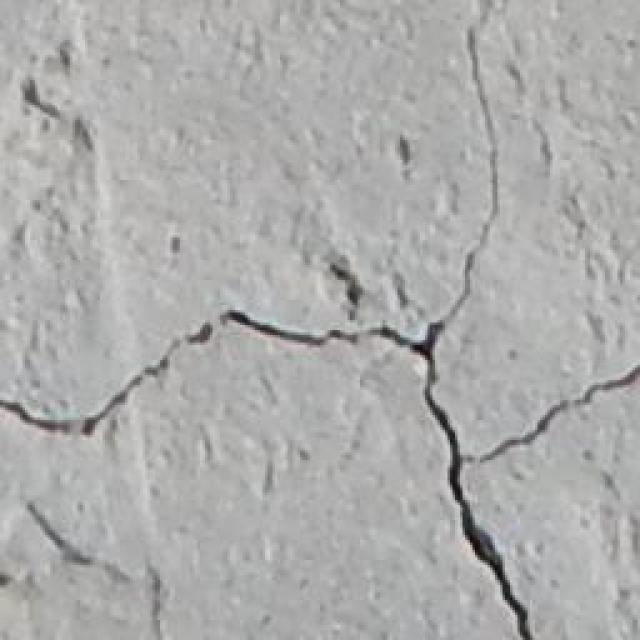concrete-crack: (2, 0, 637, 640)
